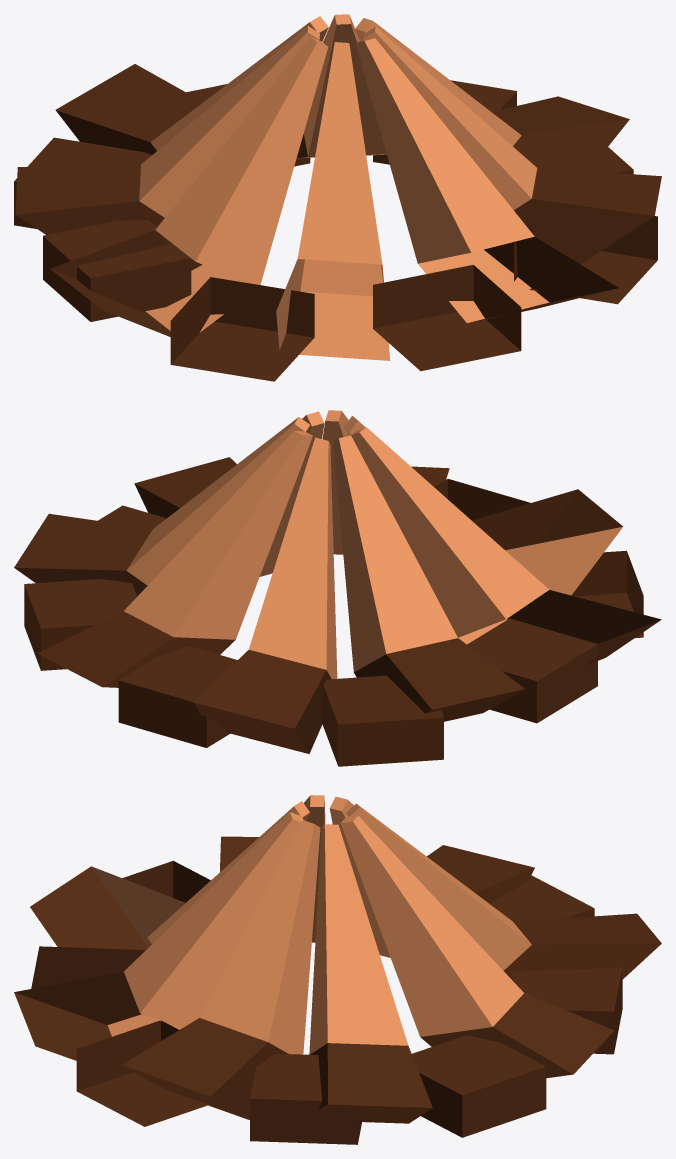
The model's file is CampFire_01.fbx.
3 views of the same model, one above another, from view 1: azimuth 30°, elevation 25°; view 2: azimuth 150°, elevation 25°; view 3: azimuth 270°, elevation 25° (orthographic). The views are drawn at different scales.
Parts seen in each view (by area): view 1: Cube.009; view 2: Cube.009; view 3: Cube.009.
Boxes of the visible parts, x1=… form: Cube.009: x1=14, y1=14, x2=661, y2=381; Cube.009: x1=14, y1=410, x2=661, y2=766; Cube.009: x1=14, y1=795, x2=661, y2=1144.
Bounding box in the file's own units: 294 × 112 × 292.
